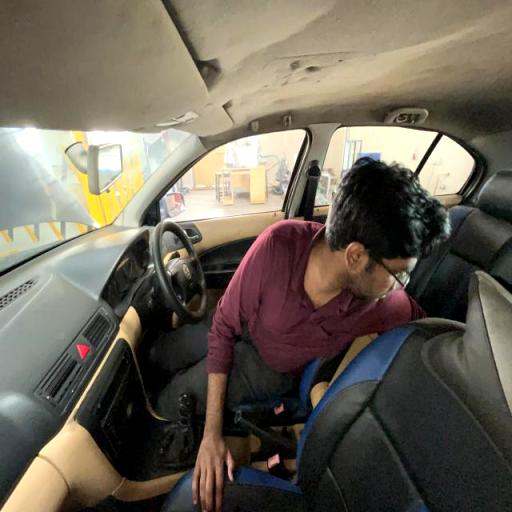Reaching_behind: (176, 151, 458, 464)
